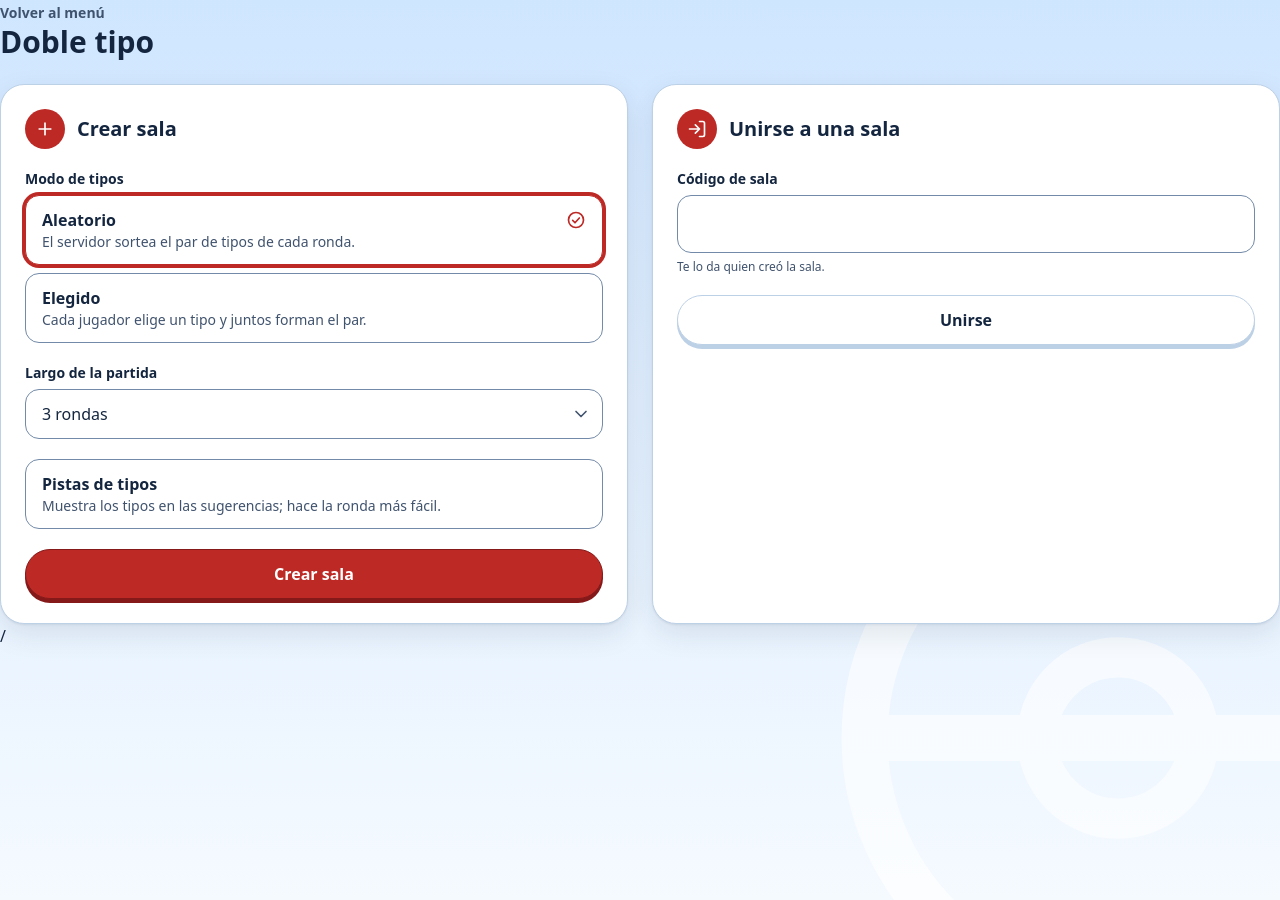
lobby: crear sala › la personalizada por meta de stats pide la meta y la valida
The width and height of the screenshot is (1280, 900).
Select "Personalizada: meta de stats" in the dropdown labelled "Largo de la partida" at (314, 414), box 25,389 -> 603,439
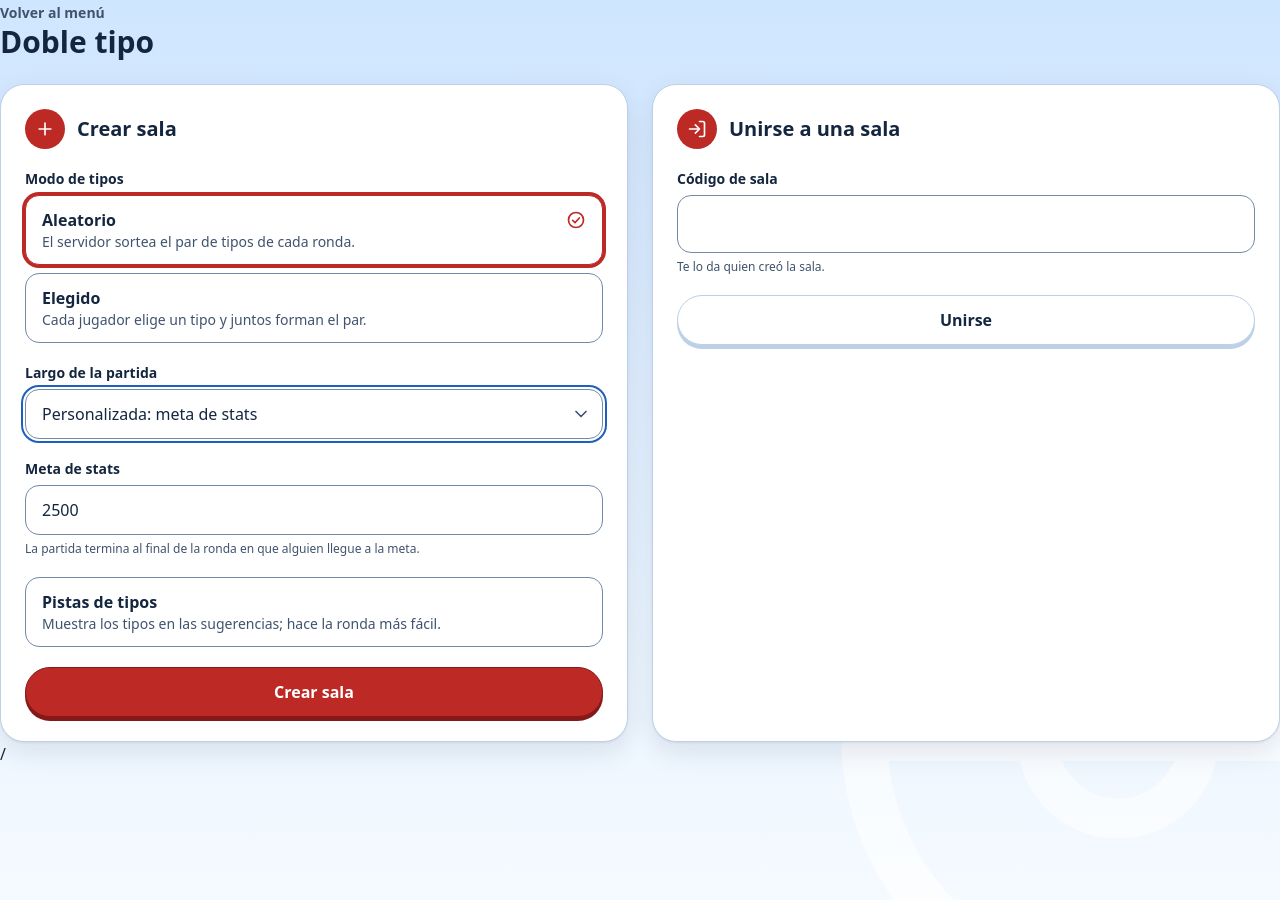
Replace the text in the field labelled "Meta de stats" with "100" at (314, 510), box 25,485 -> 603,535
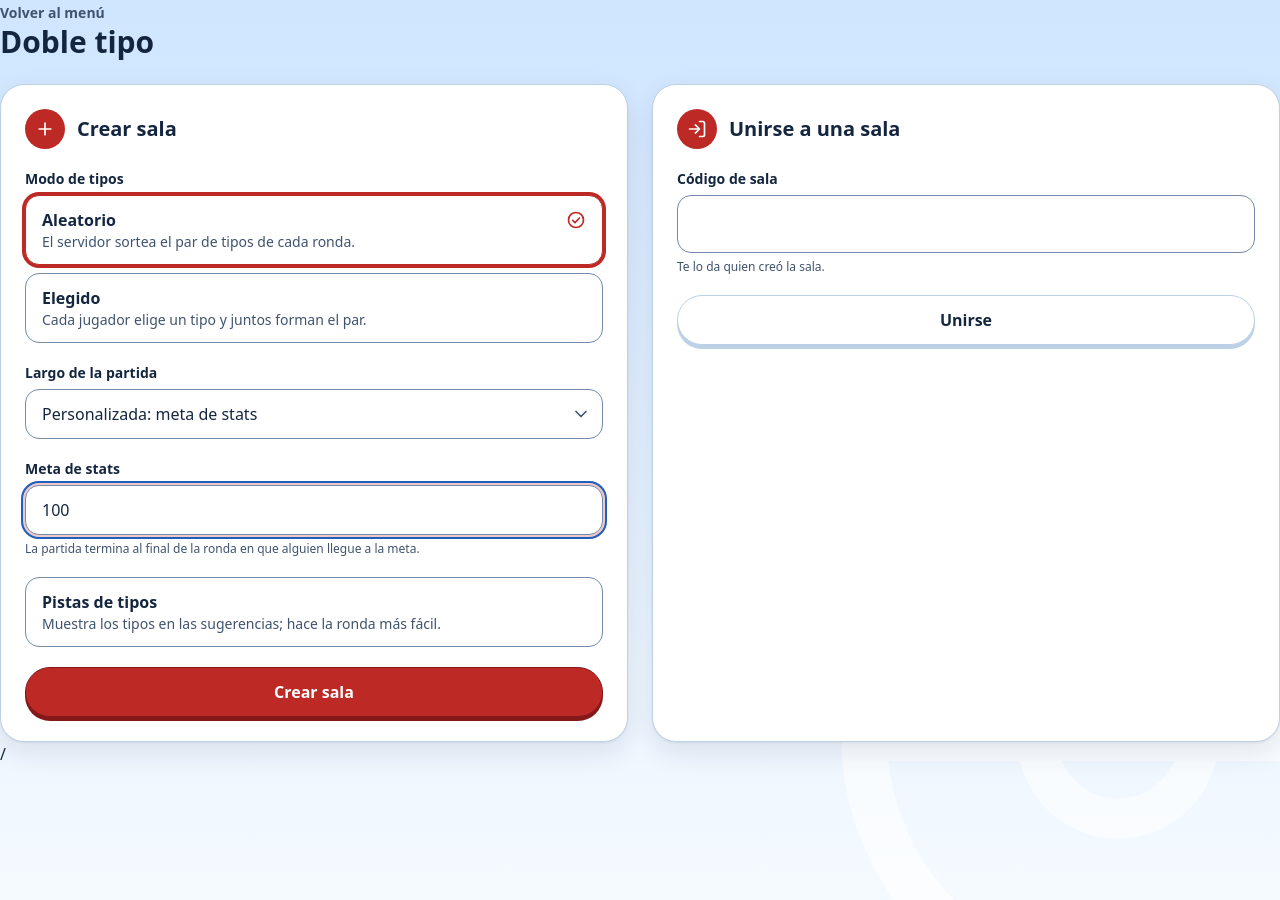
Click the button "Crear sala" at (314, 692), box 25,667 -> 603,717
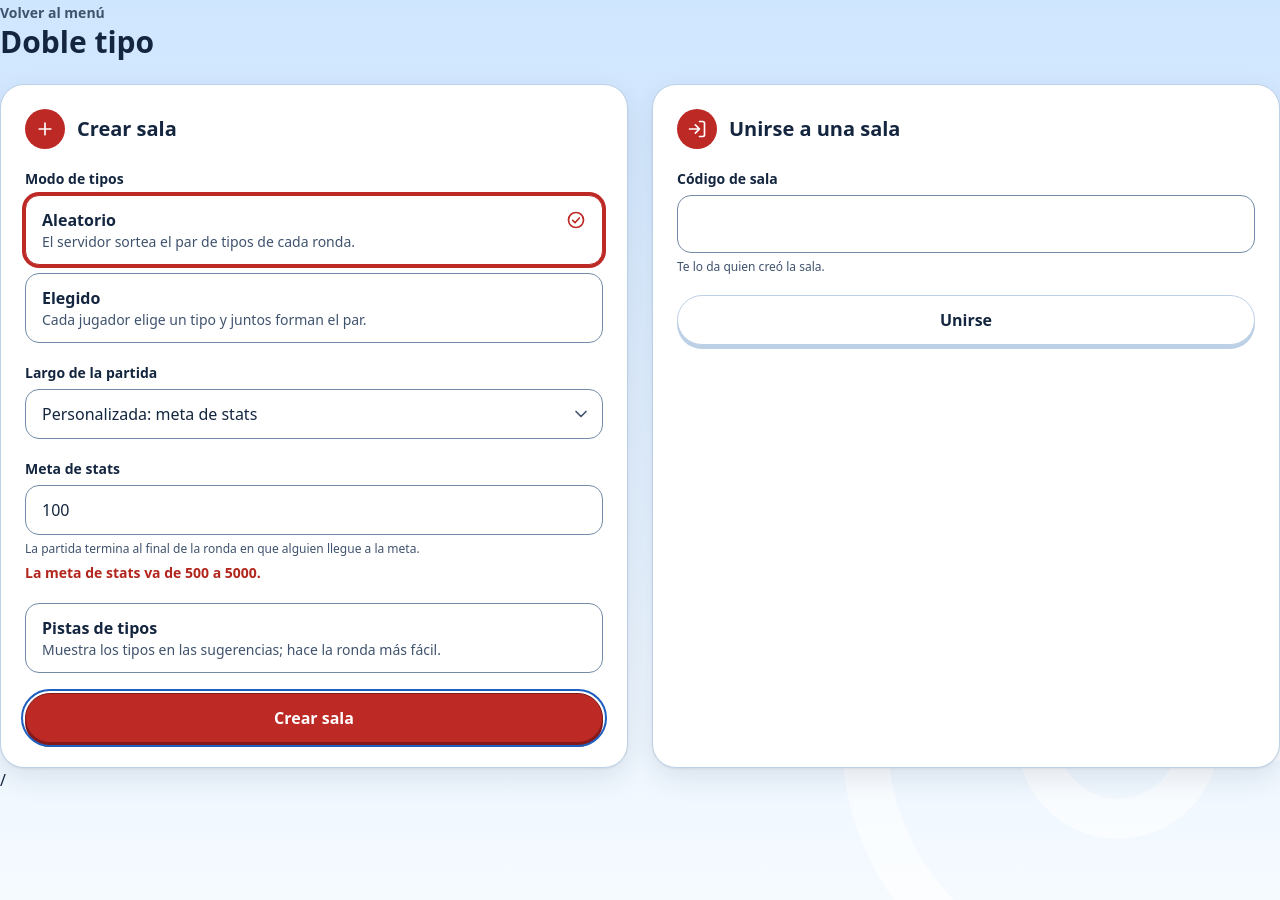
Expected: the message reads "La meta de stats va de 500 a 5000.", 25,563 -> 261,582
